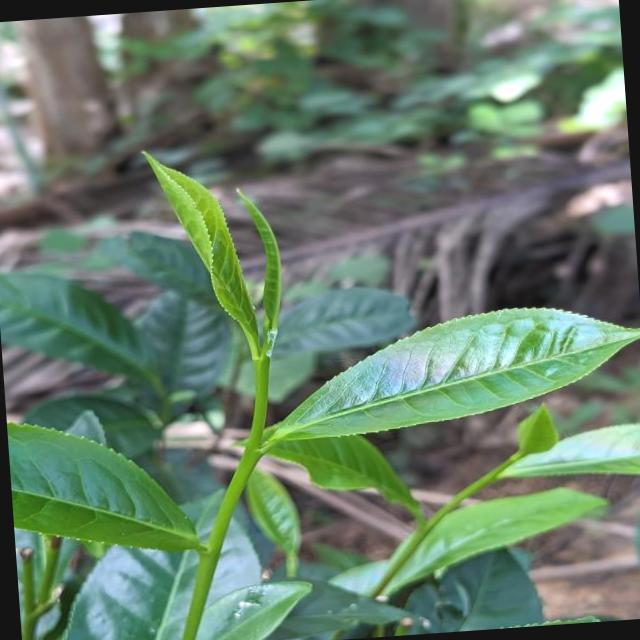Stem: (255, 361, 268, 386)
